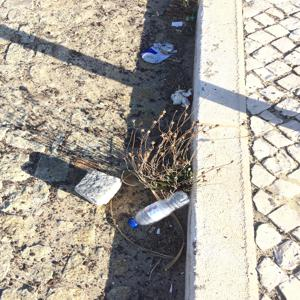plastic: (134, 34, 180, 66)
plastic bottle: (131, 189, 192, 229)
